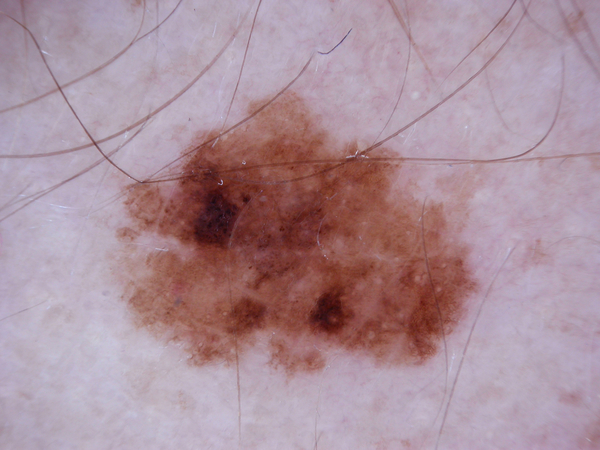Detected Lesion: (113, 84, 492, 379)
